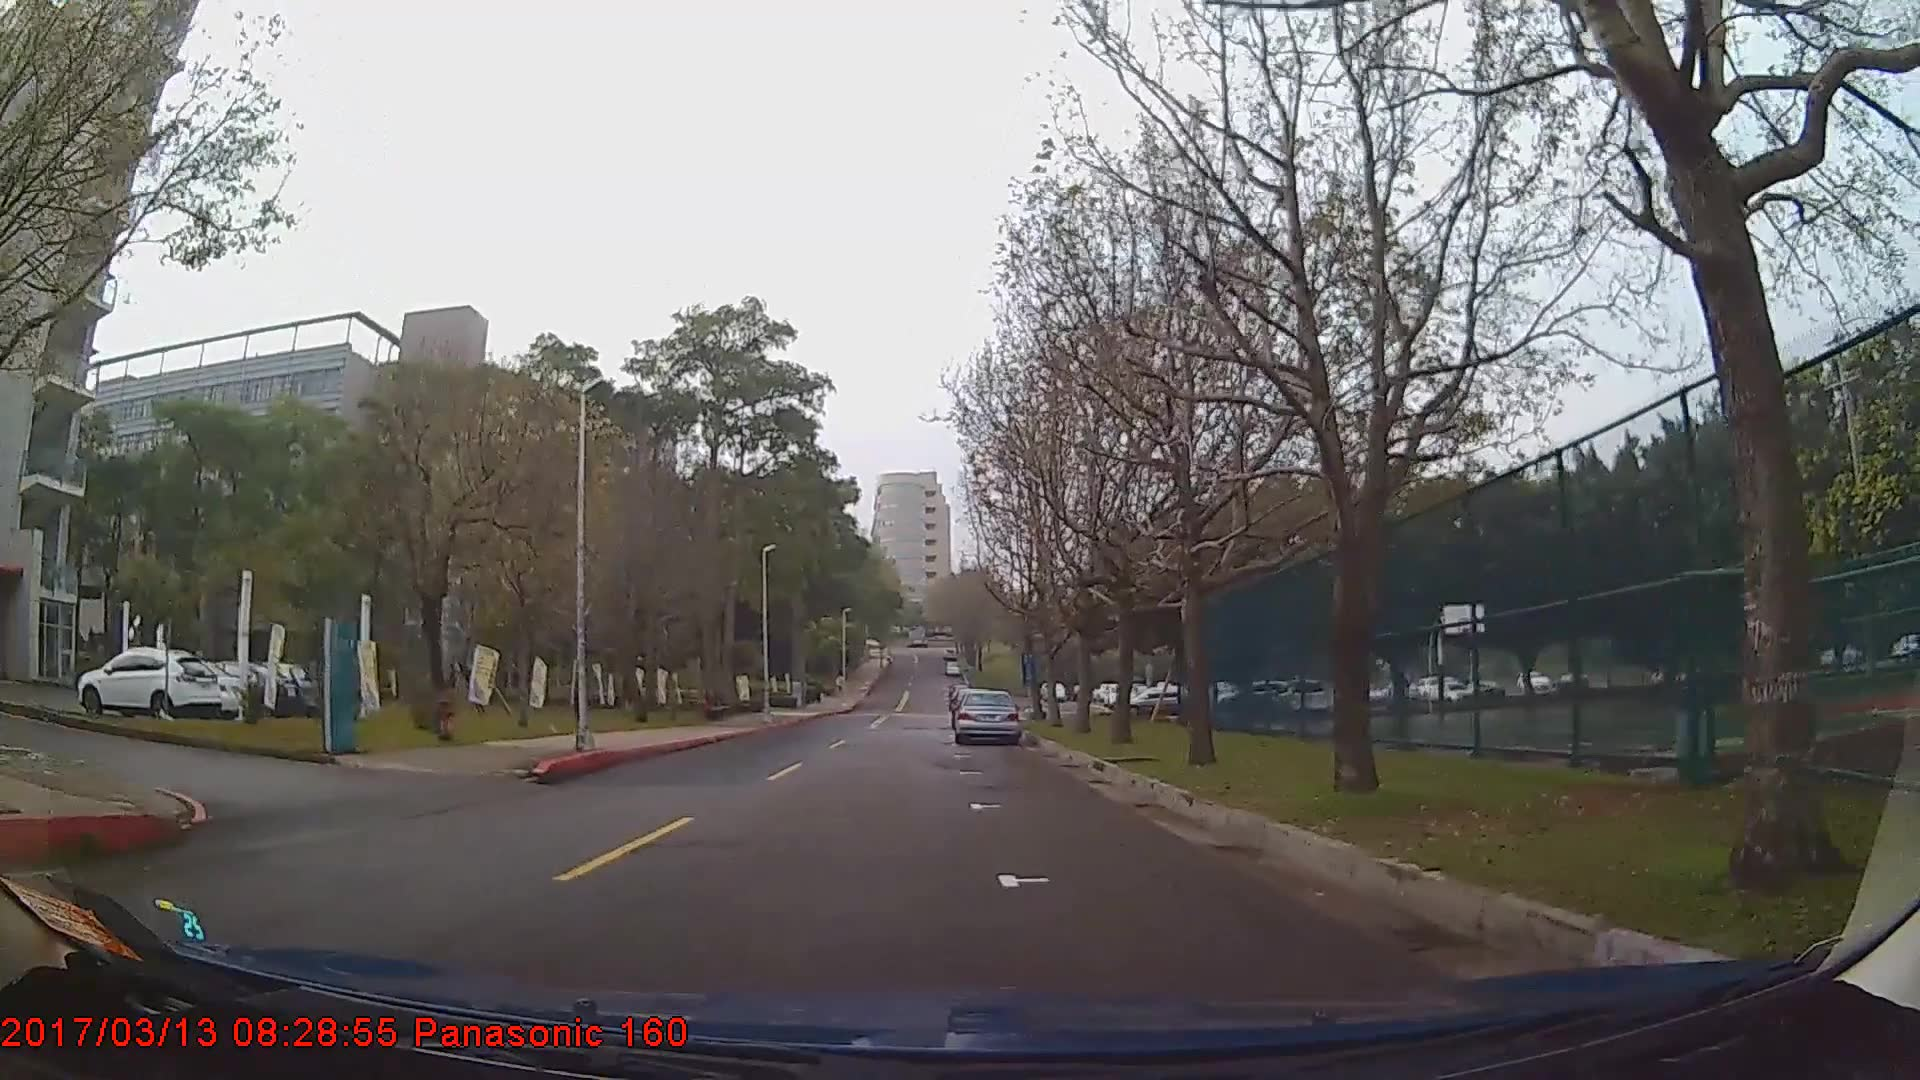vehicle: (75, 646, 223, 719), (953, 684, 1022, 742)
